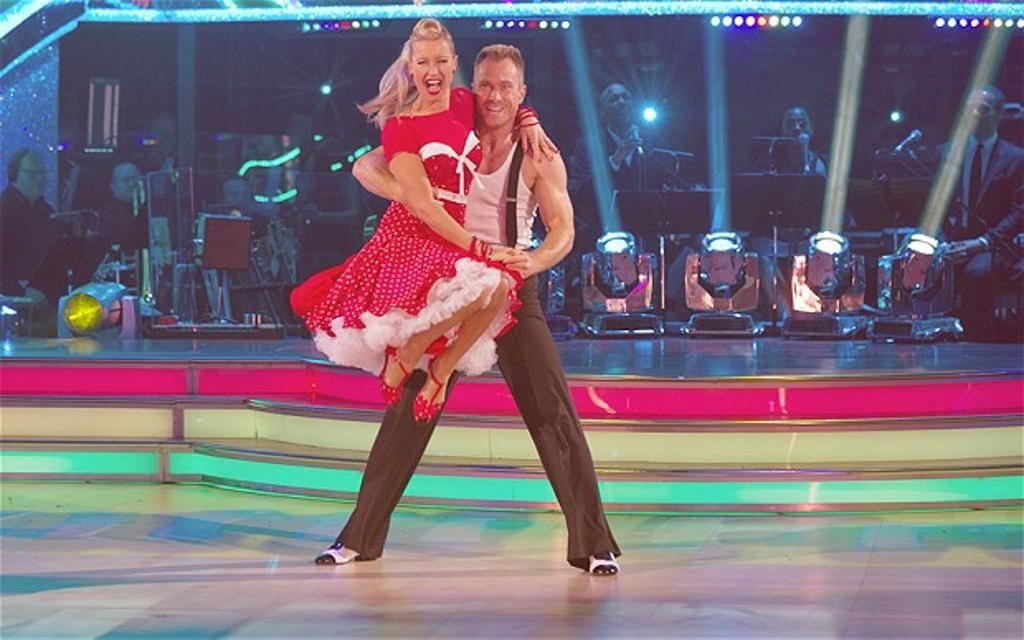face: (474, 62, 518, 125), (412, 39, 452, 100), (965, 97, 996, 133), (21, 156, 46, 200), (604, 91, 631, 125), (783, 113, 806, 147), (116, 171, 140, 200)
